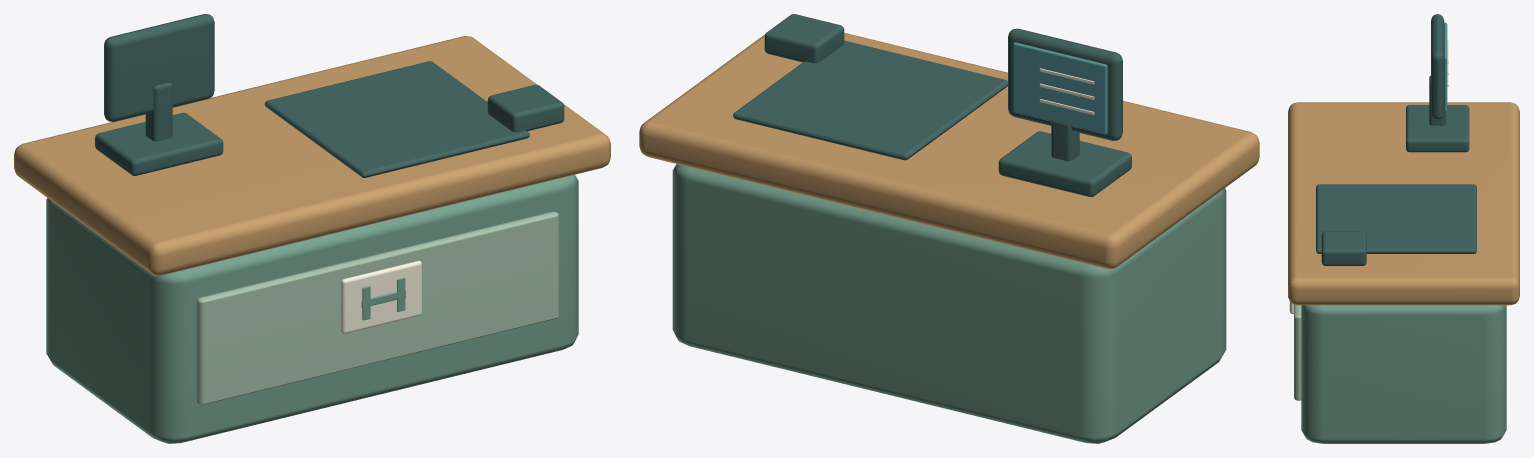
The model's file is counter.glb.
The picture shows the model from 3 angles, left to right: view 1: azimuth 30°, elevation 25°; view 2: azimuth 150°, elevation 25°; view 3: azimuth 270°, elevation 25°; orthographic projection. The views are drawn at different scales.
Parts seen in each view (by area): view 1: counter.top, counter.body, counter.front, counter.scan, terminal.back, terminal.foot, counter.logo, counter.card.reader, terminal.neck; view 2: counter.body, counter.top, counter.scan, terminal.display, terminal.foot, terminal.back, counter.card.reader, terminal.neck; view 3: counter.top, counter.body, counter.scan, terminal.foot, counter.card.reader, terminal.back, counter.front, terminal.display.
Boxes of the visible parts, box(x1,y1,x2,y2) form: counter.top: box(14, 36, 610, 275); counter.body: box(46, 174, 578, 443); counter.front: box(196, 211, 558, 404); counter.scan: box(264, 61, 529, 177); terminal.back: box(104, 14, 214, 121); terminal.foot: box(95, 112, 223, 175); counter.logo: box(341, 261, 421, 333); counter.card.reader: box(487, 84, 564, 131); terminal.neck: box(145, 82, 172, 141); counter.body: box(672, 164, 1226, 443); counter.top: box(639, 33, 1259, 268); counter.scan: box(733, 40, 1007, 160); terminal.display: box(1013, 42, 1107, 134); terminal.foot: box(998, 131, 1131, 196); terminal.back: box(1008, 28, 1122, 140); counter.card.reader: box(764, 14, 844, 63); terminal.neck: box(1051, 121, 1079, 160); counter.top: box(1288, 102, 1519, 305); counter.body: box(1301, 305, 1506, 443); counter.scan: box(1316, 184, 1476, 253); terminal.foot: box(1406, 105, 1469, 152); counter.card.reader: box(1321, 231, 1366, 265); terminal.back: box(1431, 14, 1444, 119); counter.front: box(1294, 304, 1301, 400); terminal.display: box(1444, 22, 1447, 111).
Size of the model in its own units: 1.15 by 0.83 by 0.62.
